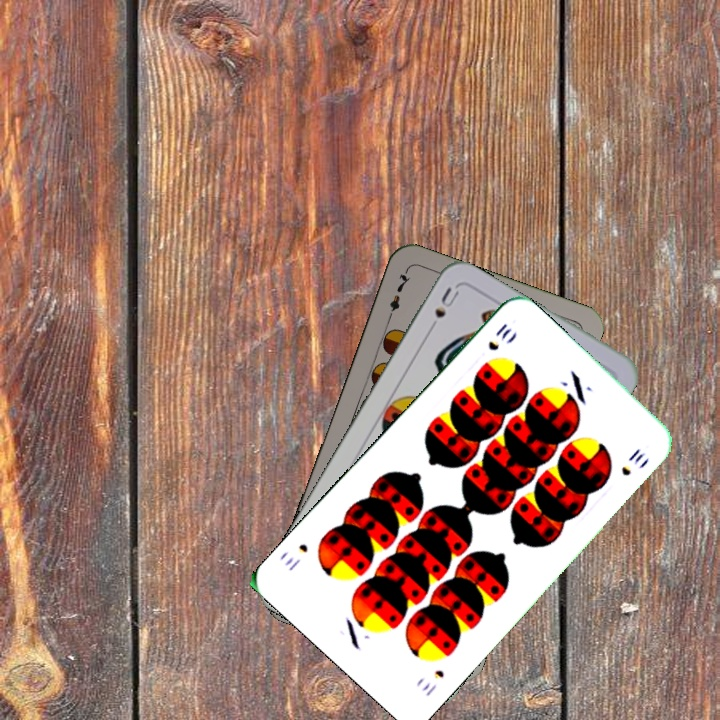E7: (383, 267, 413, 324)
S10: (484, 319, 515, 353), (417, 665, 447, 699)
SU: (423, 283, 462, 337)
